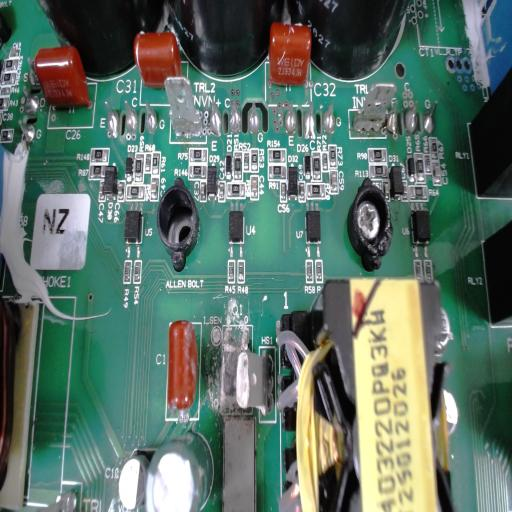pin_group: (100, 92, 162, 144), (205, 90, 263, 142), (280, 94, 338, 142), (385, 97, 441, 136)
solder_ball: (121, 95, 139, 140), (102, 97, 120, 137), (208, 96, 222, 140), (402, 98, 418, 136), (422, 98, 438, 135), (144, 98, 159, 134), (229, 100, 242, 138), (248, 100, 262, 134), (283, 102, 297, 135), (322, 100, 336, 133), (304, 101, 315, 140), (388, 103, 401, 134)
